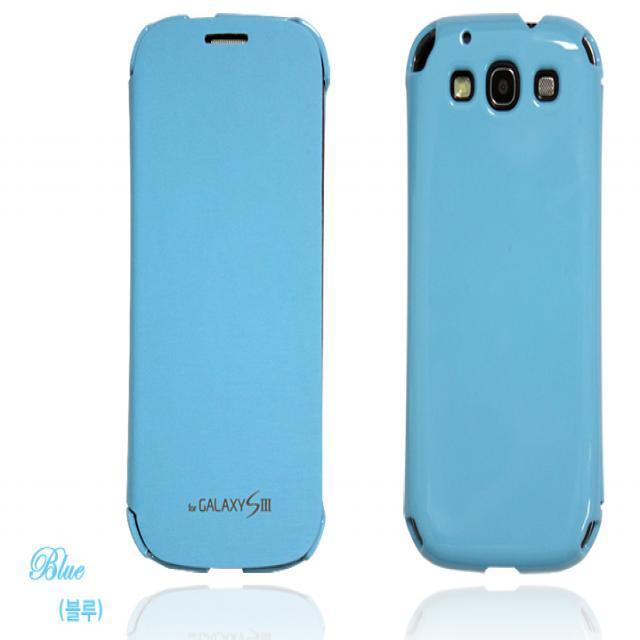phone: (402, 11, 605, 576)
